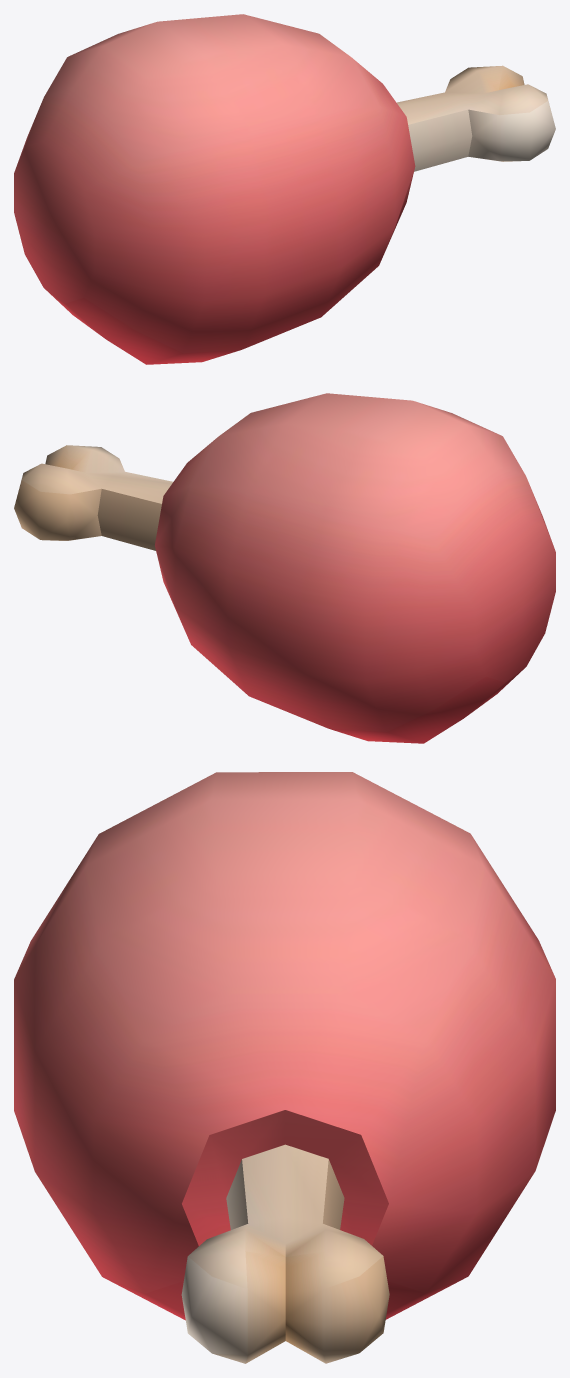
Rendered from food-ingredient-ham.glb.
The picture shows the model from 3 angles, top to bottom: view 1: azimuth 30°, elevation 25°; view 2: azimuth 150°, elevation 25°; view 3: azimuth 270°, elevation 25°; orthographic projection. The views are drawn at different scales.
Parts seen in each view (by area): view 1: food_ingredient_ham; view 2: food_ingredient_ham; view 3: food_ingredient_ham.
Boxes of the visible parts, <box> form: food_ingredient_ham: <box>14,14,555,364</box>; food_ingredient_ham: <box>14,393,555,743</box>; food_ingredient_ham: <box>14,772,555,1363</box>.
Bounding box in the file's own units: 1.39 × 0.83 × 0.83.
1 material, 1 textured.
